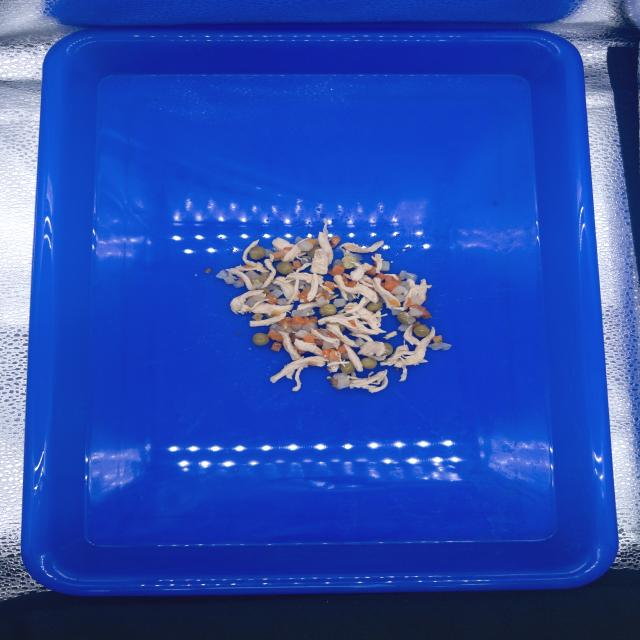Carrot: (405, 297, 432, 319), (277, 316, 318, 330), (381, 275, 401, 292), (267, 328, 283, 342), (341, 274, 356, 288), (327, 377, 343, 390), (328, 265, 346, 276), (431, 335, 443, 346), (272, 251, 285, 261), (364, 266, 376, 276), (331, 236, 341, 248), (266, 294, 278, 304), (297, 290, 310, 299), (324, 281, 335, 291), (270, 342, 282, 351), (375, 272, 386, 281), (336, 345, 347, 354), (314, 290, 326, 298), (331, 349, 339, 361), (322, 349, 331, 359), (306, 239, 317, 247), (302, 336, 314, 343), (293, 260, 302, 269), (388, 299, 398, 307), (313, 338, 323, 346), (294, 346, 304, 354), (328, 333, 340, 339), (291, 334, 300, 342), (261, 288, 270, 295), (412, 321, 420, 328), (272, 310, 280, 317), (349, 320, 357, 327), (324, 295, 333, 300), (308, 361, 317, 366), (243, 264, 254, 268), (238, 278, 245, 283), (284, 247, 292, 251), (304, 300, 308, 303), (374, 262, 376, 267)
Chicken_Shred: (271, 218, 338, 305), (270, 331, 349, 391), (317, 296, 388, 357), (394, 323, 435, 381), (230, 290, 293, 327), (225, 239, 270, 290), (372, 278, 432, 311), (327, 324, 363, 372), (333, 275, 379, 304), (346, 369, 388, 393), (380, 338, 416, 366), (272, 237, 311, 262), (342, 262, 373, 288), (311, 328, 340, 349), (340, 241, 384, 254), (261, 254, 276, 288), (371, 253, 384, 274), (362, 353, 386, 361), (297, 302, 319, 310), (325, 294, 339, 304), (382, 331, 397, 340), (363, 381, 382, 387), (383, 274, 398, 280), (291, 331, 297, 333)
Peas: (249, 247, 265, 260), (397, 311, 411, 325), (277, 262, 293, 274), (253, 333, 269, 345), (342, 256, 356, 269), (367, 300, 382, 312), (414, 325, 429, 337), (340, 362, 355, 374), (361, 358, 377, 369), (326, 323, 345, 332), (319, 305, 336, 315), (307, 246, 321, 258), (381, 343, 393, 356)
Potato_White: (250, 273, 270, 290), (244, 293, 266, 307), (216, 270, 235, 284), (399, 270, 418, 283), (333, 373, 349, 388), (291, 308, 315, 317), (427, 342, 452, 350), (297, 240, 313, 252), (390, 285, 407, 295), (269, 323, 286, 333), (265, 283, 283, 292), (286, 324, 302, 334), (245, 270, 260, 280), (343, 253, 361, 261), (301, 323, 317, 332), (270, 289, 284, 298), (315, 296, 326, 307), (408, 308, 423, 316), (354, 337, 367, 346), (295, 330, 308, 339), (334, 298, 347, 307), (411, 294, 421, 305), (397, 323, 409, 332), (323, 340, 334, 349), (232, 280, 244, 288), (393, 294, 405, 302), (252, 313, 264, 321), (403, 283, 410, 296), (264, 248, 273, 258), (381, 261, 390, 271), (345, 292, 354, 302), (276, 298, 287, 306), (391, 307, 402, 315), (341, 351, 349, 361), (407, 316, 416, 324), (295, 236, 303, 244), (398, 281, 407, 288), (333, 260, 343, 266), (324, 291, 333, 297), (299, 280, 306, 287), (318, 286, 326, 292), (319, 331, 326, 337), (305, 282, 311, 289), (289, 281, 296, 285)
